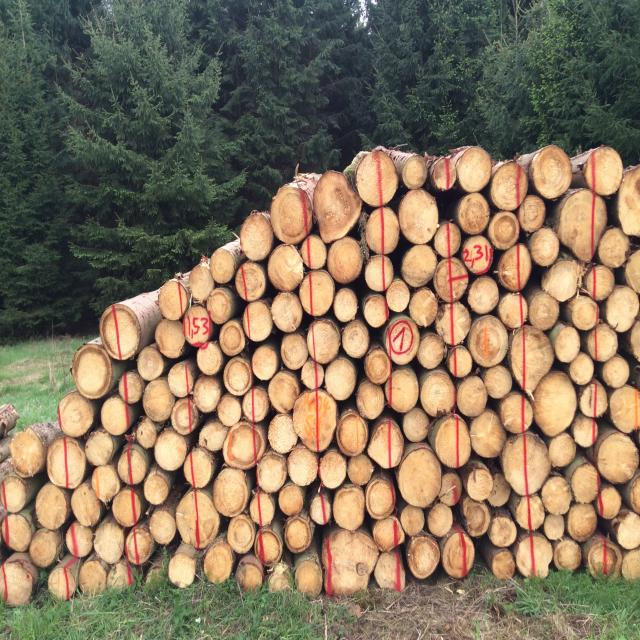wood-log: (324, 530, 378, 598), (557, 188, 606, 261), (315, 172, 364, 242), (501, 434, 552, 495), (512, 326, 558, 393), (532, 368, 578, 434), (289, 392, 337, 454), (398, 444, 443, 506), (353, 150, 399, 208), (178, 488, 224, 546), (271, 185, 313, 244), (102, 306, 142, 363), (595, 431, 638, 484), (399, 190, 440, 244), (429, 412, 470, 466), (534, 147, 574, 202), (48, 436, 89, 488), (469, 316, 510, 368), (72, 344, 110, 399), (367, 417, 406, 469), (211, 469, 250, 518), (489, 162, 527, 212), (585, 148, 624, 196), (495, 244, 533, 293), (471, 407, 508, 457), (434, 259, 474, 305), (238, 214, 276, 262), (10, 427, 46, 477), (298, 269, 336, 316), (514, 534, 553, 579), (268, 243, 305, 290), (58, 391, 95, 438), (385, 318, 420, 367), (328, 239, 365, 285), (420, 370, 457, 416), (225, 423, 261, 470), (365, 208, 400, 256), (443, 527, 475, 579), (457, 147, 493, 193), (604, 286, 640, 332), (0, 558, 33, 608), (544, 259, 582, 302), (384, 368, 420, 412), (498, 391, 534, 435), (34, 485, 68, 531), (407, 532, 440, 579), (618, 168, 640, 238), (144, 377, 177, 423), (402, 244, 438, 286), (306, 320, 340, 364), (154, 428, 188, 472), (183, 445, 217, 489), (118, 444, 152, 488), (326, 356, 358, 401), (598, 226, 632, 268), (611, 385, 640, 434), (337, 412, 370, 455), (204, 540, 236, 584), (268, 370, 300, 413), (73, 482, 105, 525), (334, 487, 365, 531), (94, 518, 124, 563), (460, 193, 492, 235), (271, 292, 303, 334), (510, 493, 546, 530), (257, 453, 289, 494), (570, 464, 602, 505), (457, 374, 488, 416), (184, 304, 214, 347), (565, 503, 598, 542), (586, 323, 619, 362), (528, 227, 560, 267), (528, 290, 560, 330), (111, 488, 143, 528), (463, 234, 495, 274), (367, 475, 396, 519), (286, 446, 318, 485), (296, 554, 324, 598), (236, 554, 266, 595), (244, 300, 273, 342), (267, 416, 299, 454), (0, 515, 32, 553), (409, 287, 440, 326), (542, 476, 572, 516), (318, 449, 348, 489), (376, 550, 406, 590), (159, 280, 188, 321), (566, 294, 599, 330), (585, 264, 617, 301), (469, 276, 500, 314), (489, 211, 520, 249), (30, 528, 61, 566), (580, 380, 611, 418), (156, 321, 186, 360), (551, 322, 581, 361), (459, 496, 488, 536), (236, 263, 266, 301), (86, 430, 116, 468), (170, 398, 200, 436), (224, 357, 253, 396), (357, 380, 386, 419), (342, 318, 370, 358), (80, 557, 108, 597), (126, 524, 154, 564), (417, 332, 447, 369), (228, 515, 257, 553), (0, 475, 29, 513), (168, 548, 196, 587), (101, 395, 129, 434), (434, 223, 465, 258), (366, 256, 396, 292), (402, 406, 431, 443), (244, 387, 272, 425), (482, 364, 514, 397), (363, 347, 392, 383), (549, 432, 578, 468), (286, 515, 314, 552), (498, 293, 526, 330), (93, 464, 121, 501), (251, 344, 280, 379), (144, 470, 172, 506), (280, 334, 307, 371), (210, 246, 237, 283), (520, 196, 547, 233), (195, 375, 222, 412), (150, 508, 176, 546), (136, 346, 165, 380), (66, 521, 93, 557), (347, 452, 376, 485), (554, 538, 582, 572), (362, 294, 390, 328), (572, 414, 600, 447), (108, 559, 136, 592), (465, 467, 492, 501), (384, 278, 410, 313), (403, 155, 429, 190), (207, 287, 232, 323), (434, 258, 454, 303), (604, 356, 631, 389), (426, 504, 453, 537), (570, 351, 596, 385), (251, 492, 277, 526), (198, 341, 224, 375), (596, 484, 622, 518), (437, 303, 458, 345), (258, 527, 283, 562), (221, 320, 246, 355), (489, 515, 517, 546), (201, 419, 228, 451), (278, 483, 304, 516), (334, 290, 360, 323), (303, 234, 328, 268), (438, 471, 462, 506), (452, 303, 472, 345), (488, 471, 511, 507), (218, 396, 244, 427), (401, 506, 426, 538), (449, 345, 474, 377), (122, 371, 146, 404), (618, 512, 640, 548), (310, 492, 332, 526), (136, 417, 158, 449), (302, 357, 323, 389), (492, 550, 515, 579), (625, 250, 640, 292), (542, 514, 565, 540), (623, 549, 640, 582), (627, 472, 640, 514), (629, 318, 640, 361)
